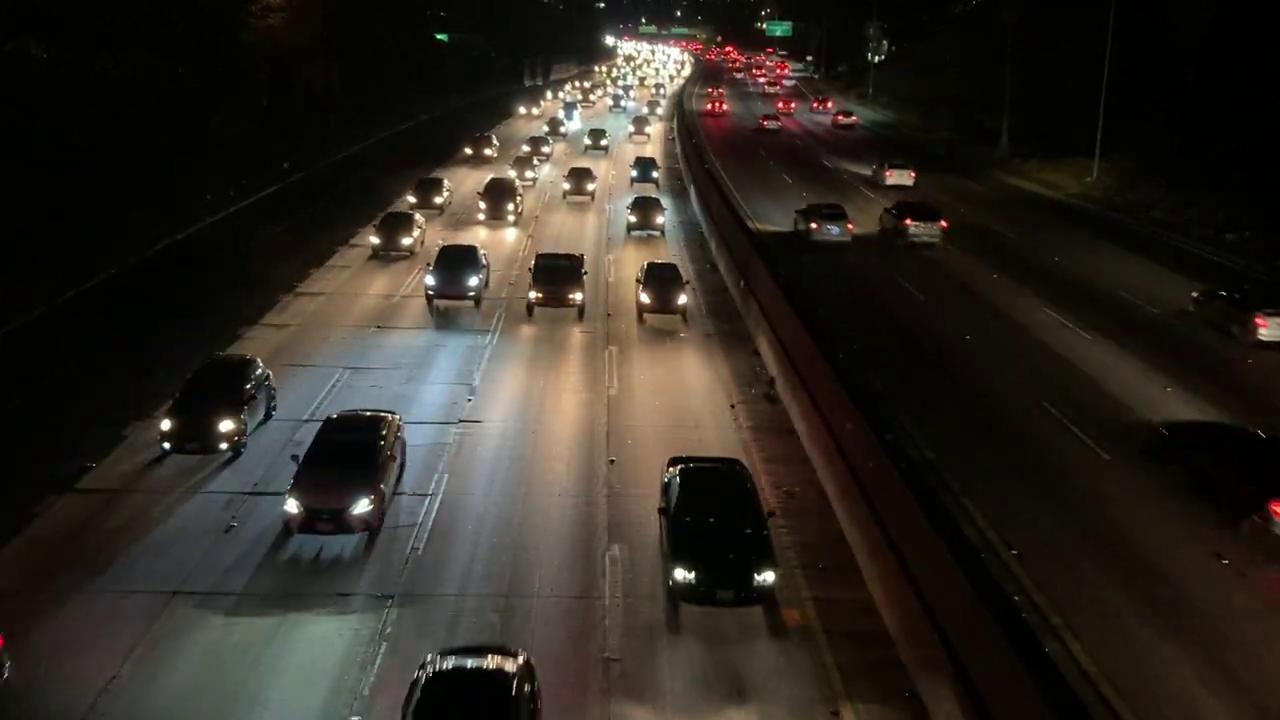car: (646, 454, 782, 617), (279, 403, 411, 550), (156, 353, 281, 466), (404, 644, 549, 718), (524, 246, 593, 322), (630, 260, 693, 327), (424, 243, 491, 300), (877, 197, 954, 245), (368, 210, 428, 255), (795, 204, 858, 243), (622, 194, 673, 242), (474, 177, 524, 221), (405, 175, 455, 214), (869, 157, 920, 189), (561, 166, 599, 200), (629, 155, 663, 188), (467, 132, 501, 160), (584, 128, 610, 153), (757, 112, 784, 136), (829, 105, 856, 128), (807, 94, 833, 114), (705, 99, 729, 118)
